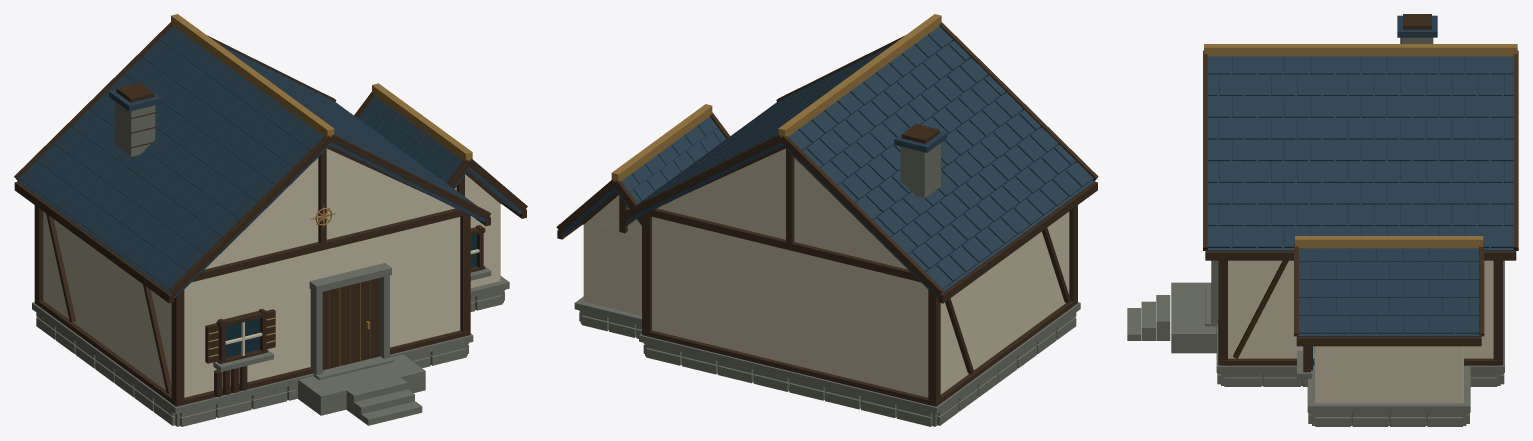
The model's file is House_Workshop_LOD0.fbx.
3 views of the same model, side by side, from view 1: azimuth 30°, elevation 25°; view 2: azimuth 150°, elevation 25°; view 3: azimuth 270°, elevation 25° (orthographic).
Parts seen in each view (by area): view 1: House_Workshop_Body; view 2: House_Workshop_Body; view 3: House_Workshop_Body.
Boxes of the visible parts, x1=… form: House_Workshop_Body: x1=14, y1=14, x2=527, y2=426; House_Workshop_Body: x1=556, y1=14, x2=1098, y2=426; House_Workshop_Body: x1=1127, y1=14, x2=1518, y2=426.
Size of the model in its own units: 11.54 by 7.34 by 9.68.
